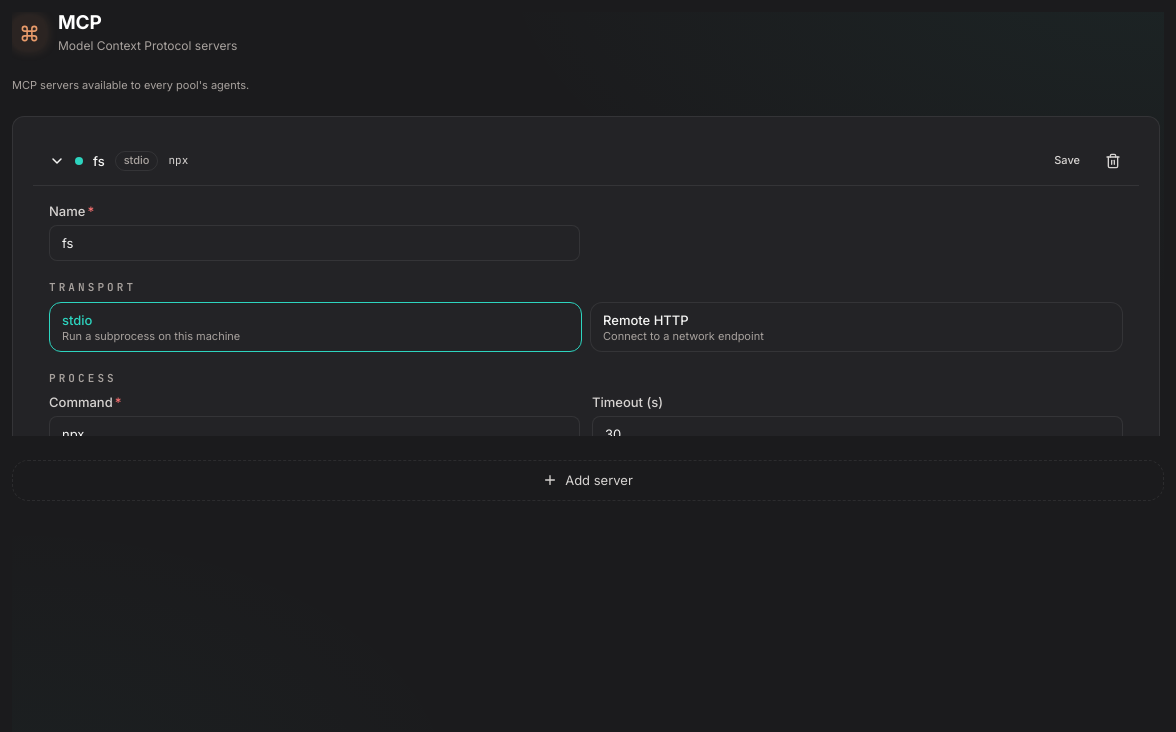
it: GlobalMcpView › delete succeeds even when the server is referenced by agents
Two-step delete: trash reveals a confirm row, then Delete commits.
What coordinates should you click on to do the following:
click the button named "Delete server"
I would click on:
 (1113, 161)
Its box is [1099,147,1127,175].
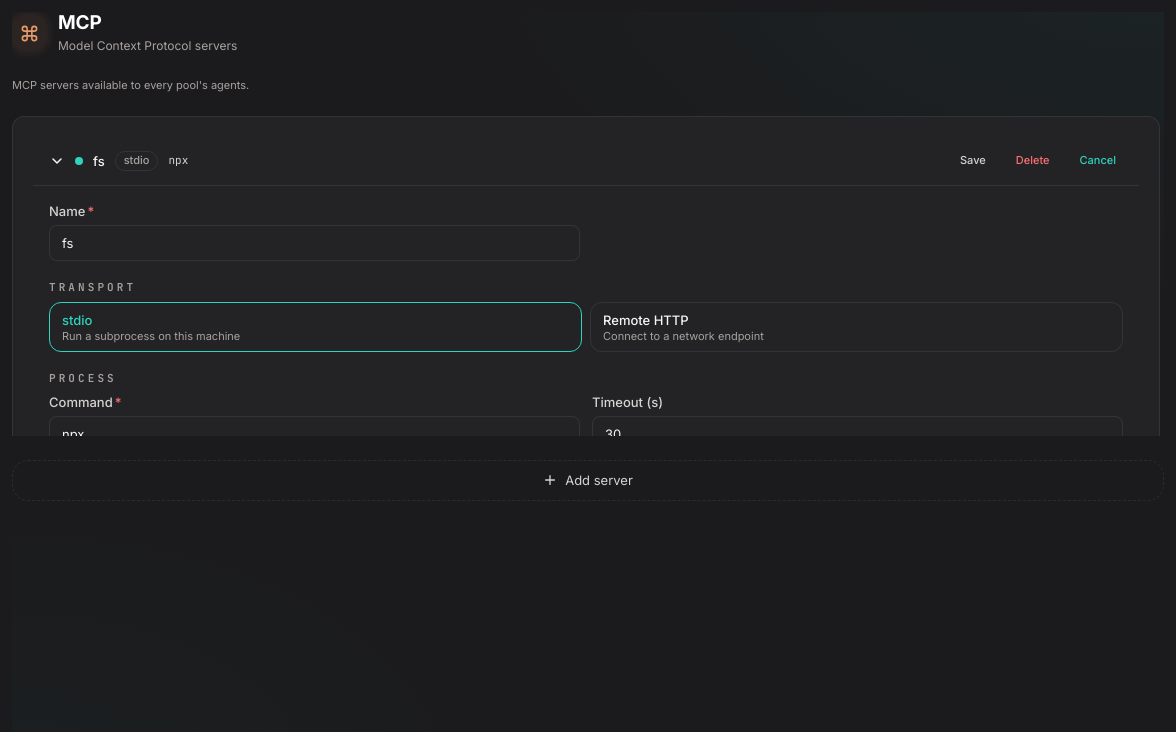
What coordinates should you click on to do the following:
click the button "Delete"
I would click on:
 (1033, 161)
Its box is [1005,153,1060,169].
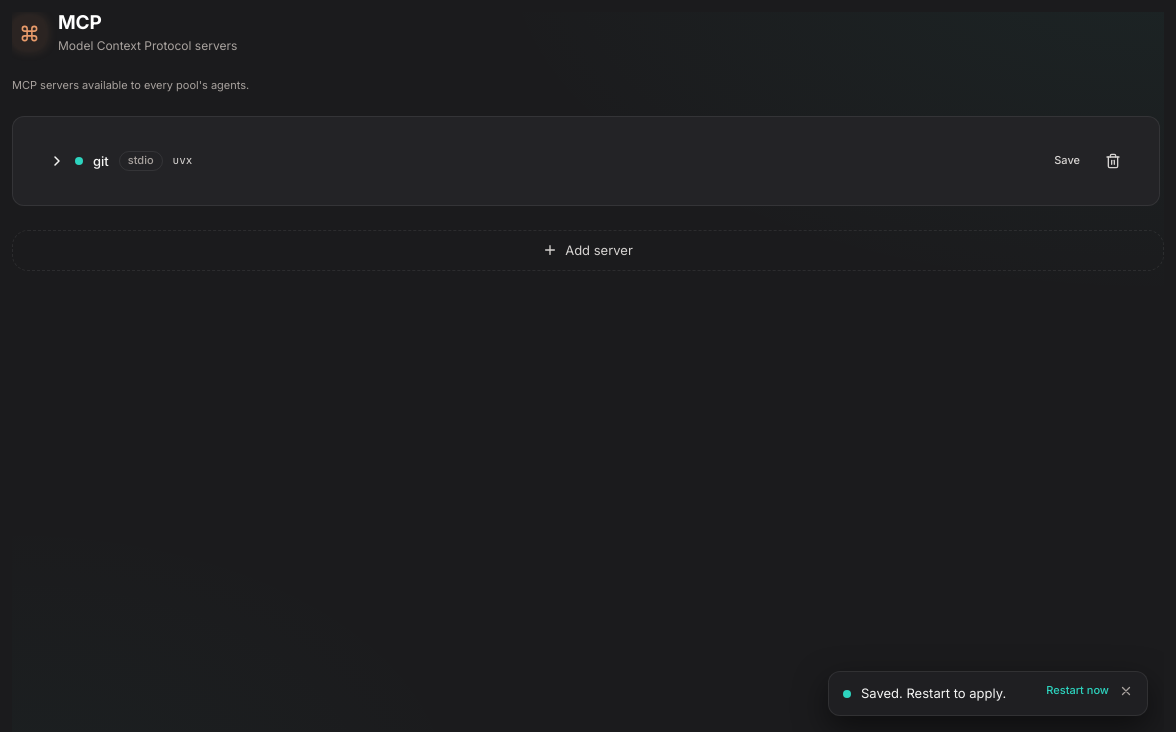
Expected: the button showing "npx" is gone
